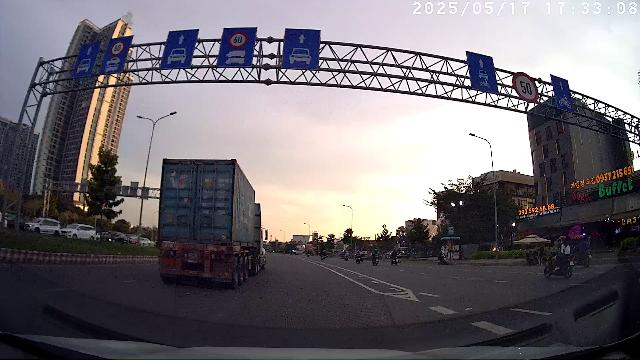127-toc-do-toi-da-50: (513, 72, 539, 102)
127-toc-do-toi-da-60: (228, 32, 248, 48)
127-toc-do-toi-da-80: (110, 40, 124, 56)
